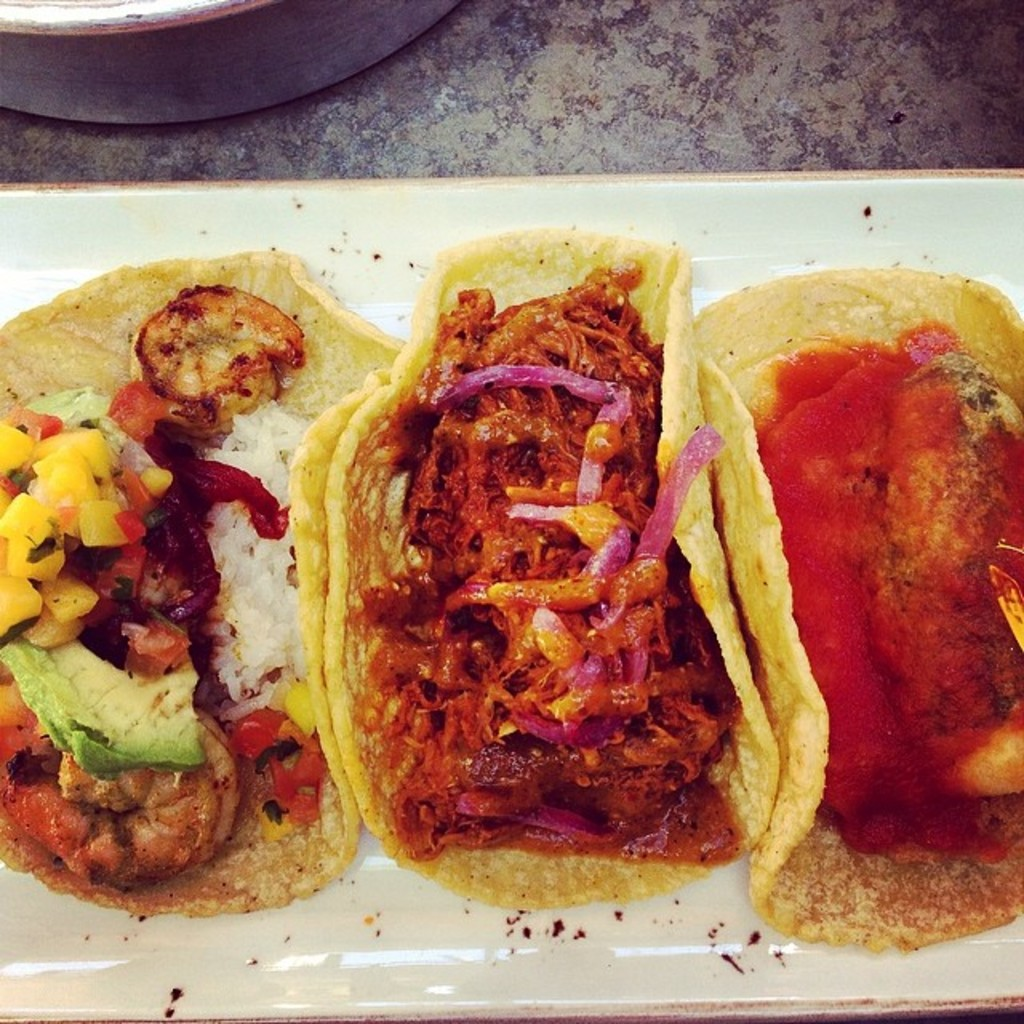taco: (355, 240, 805, 922), (0, 245, 402, 907), (720, 264, 1022, 949)
